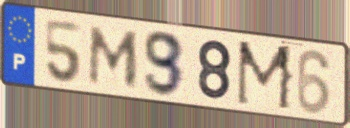5: (43, 16, 83, 86)
6: (295, 48, 335, 117)
8: (195, 37, 233, 102)
9: (141, 29, 188, 99)
M: (234, 38, 296, 114), (86, 24, 142, 90)
